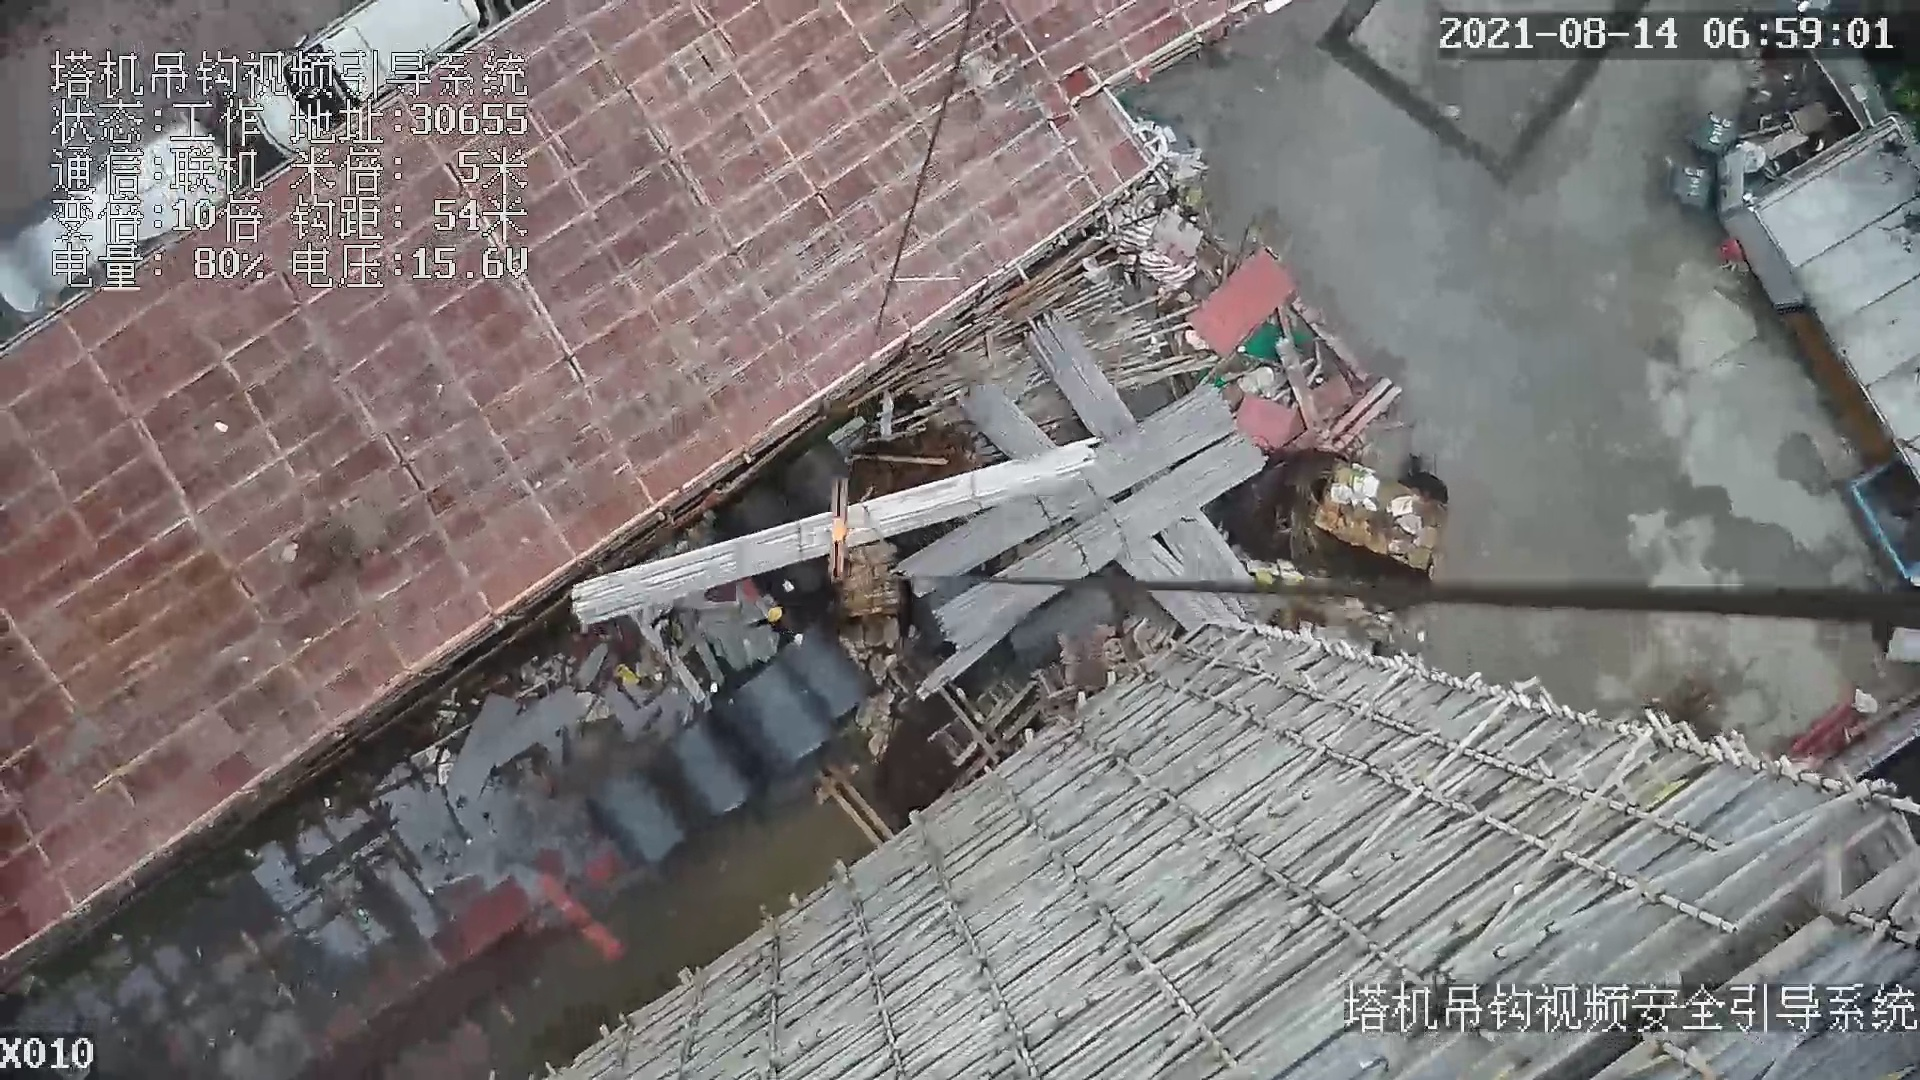helmet: (767, 607, 782, 622)
hook: (820, 472, 858, 583)
rebar: (566, 446, 1096, 626), (899, 388, 1240, 600), (931, 439, 1266, 645), (1025, 310, 1251, 599), (963, 380, 1216, 636)
wood: (847, 549, 897, 622)
